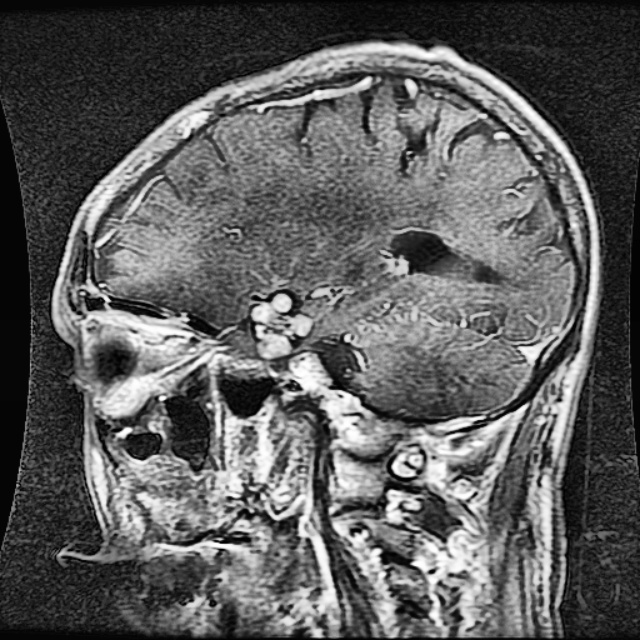Pituitary: (247, 289, 318, 359)
